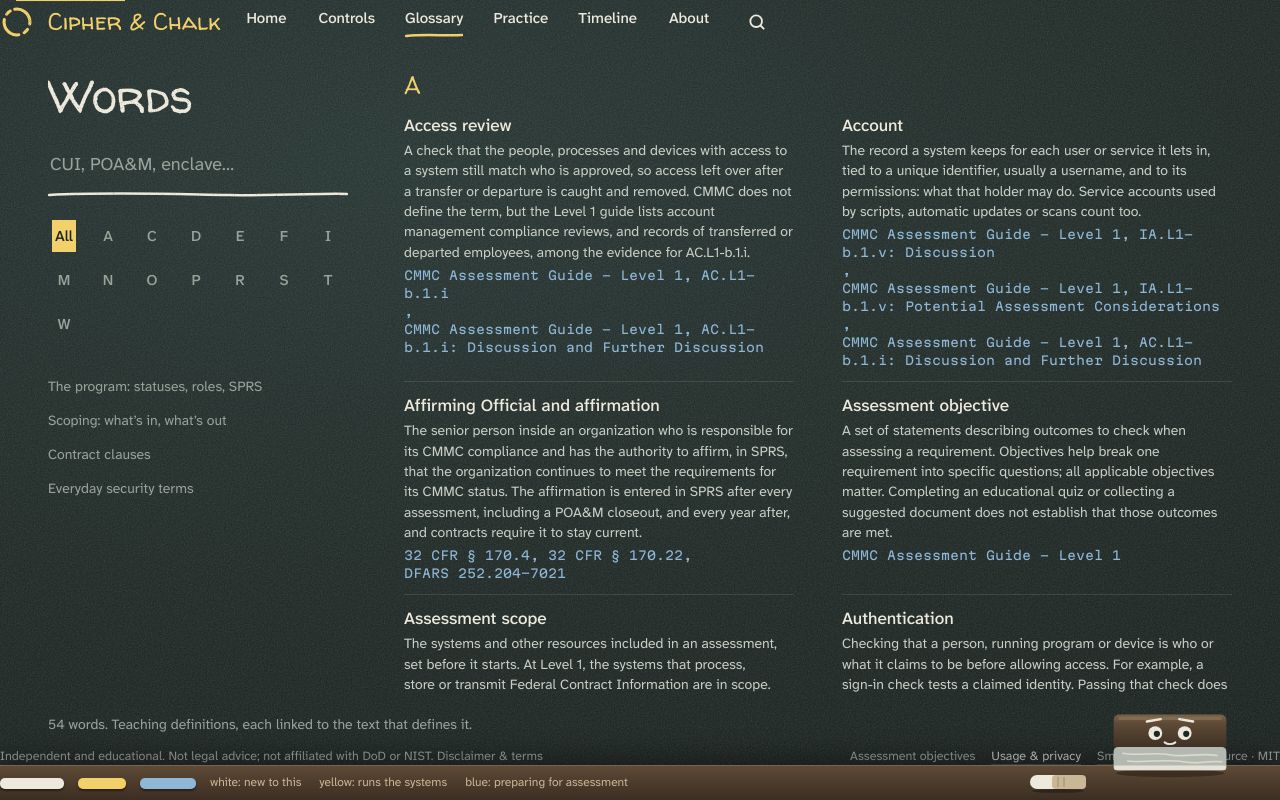
Test: The keys › leaves "?" and "/" to a visitor who is typing
Click the search field named "Search words". click: {"x": 198, "y": 164}
box: [48,142,348,186]
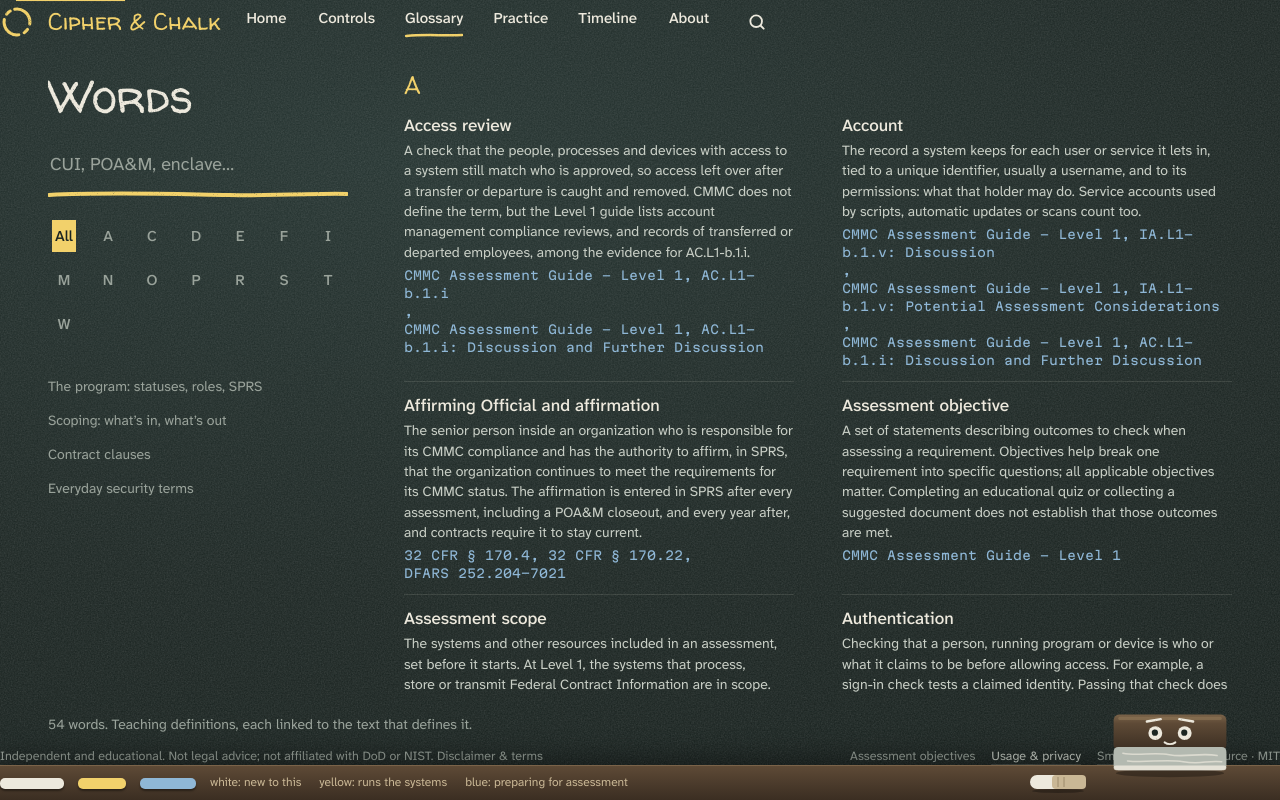
Type keys "/?"
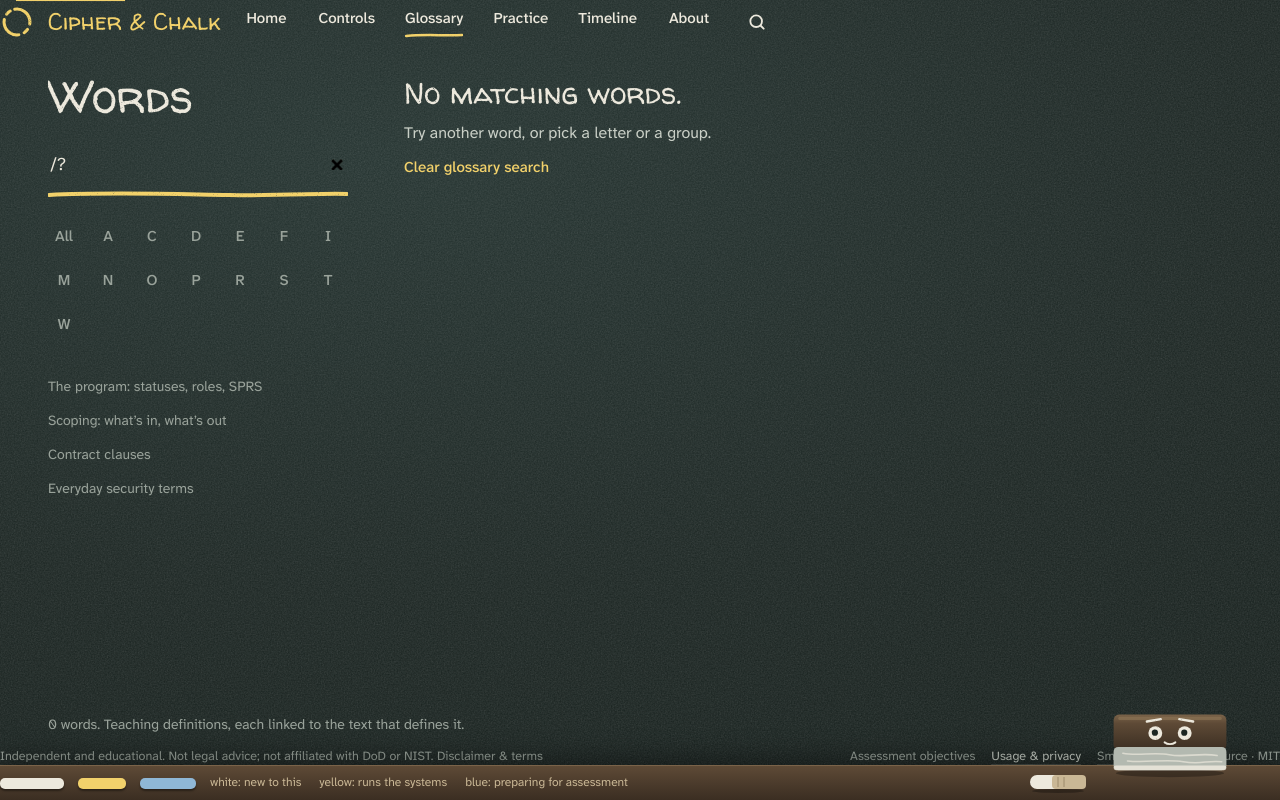
Expected: the search field named "Search words" holds "/?", [48,142,348,186]
